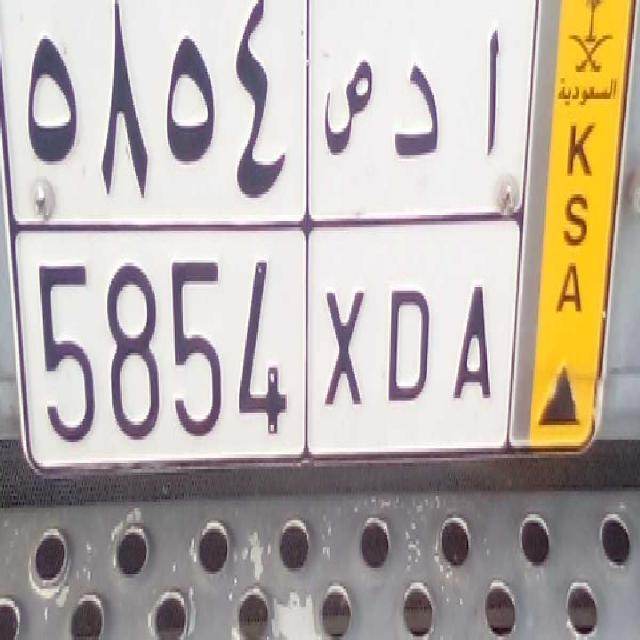license_plate: (22, 220, 506, 458)
